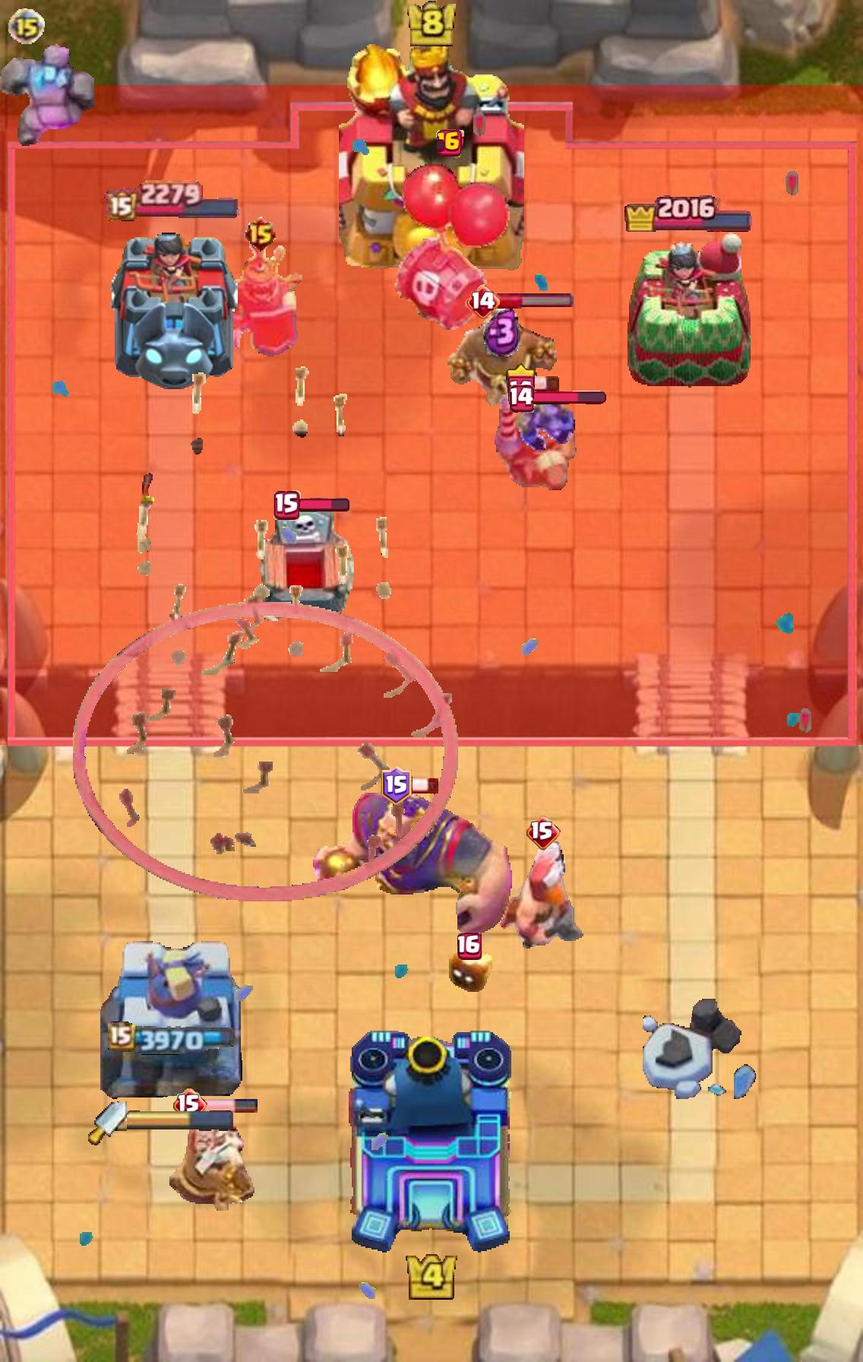bar: (497, 293, 574, 309), (531, 391, 606, 406), (204, 1098, 258, 1113), (298, 497, 349, 512), (409, 776, 439, 794), (531, 375, 560, 392)
bar-level: (380, 765, 413, 805), (243, 216, 278, 252), (506, 363, 536, 404), (465, 284, 501, 318), (173, 1088, 207, 1123), (527, 816, 561, 850), (273, 490, 301, 521), (436, 129, 464, 157), (509, 384, 535, 412), (457, 933, 482, 960)
